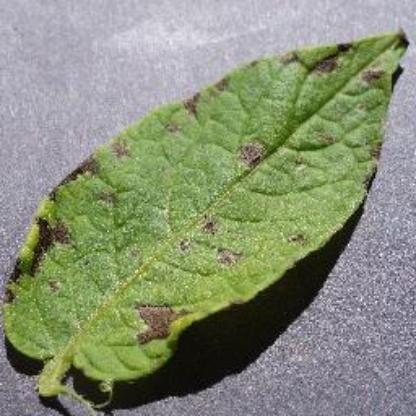Early-Blight: (7, 25, 410, 405)
